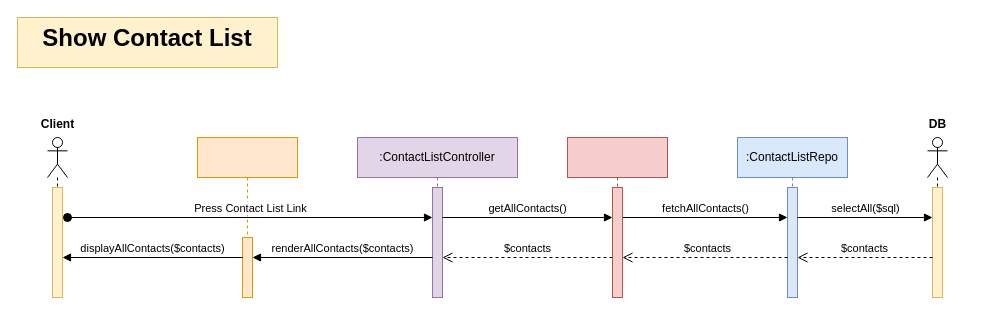
Some shapes in this 995 by 315 pixel diagram are drawn without their labels. Here are the shapes that lost their labels. From the top down, the centre of each, then its label:
At (x=247, y=217): ":ContactListView".
At (x=617, y=217): ":ContactList".
